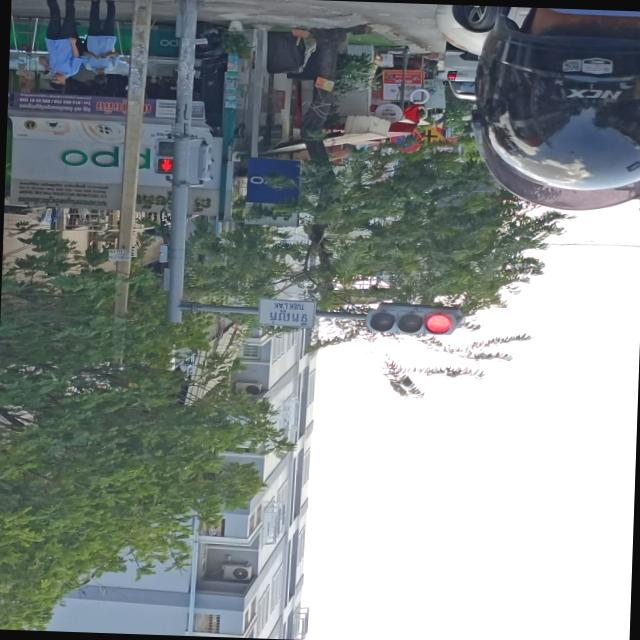Yolov11_80vkh: (14, 193, 108, 209), (266, 308, 310, 327)
